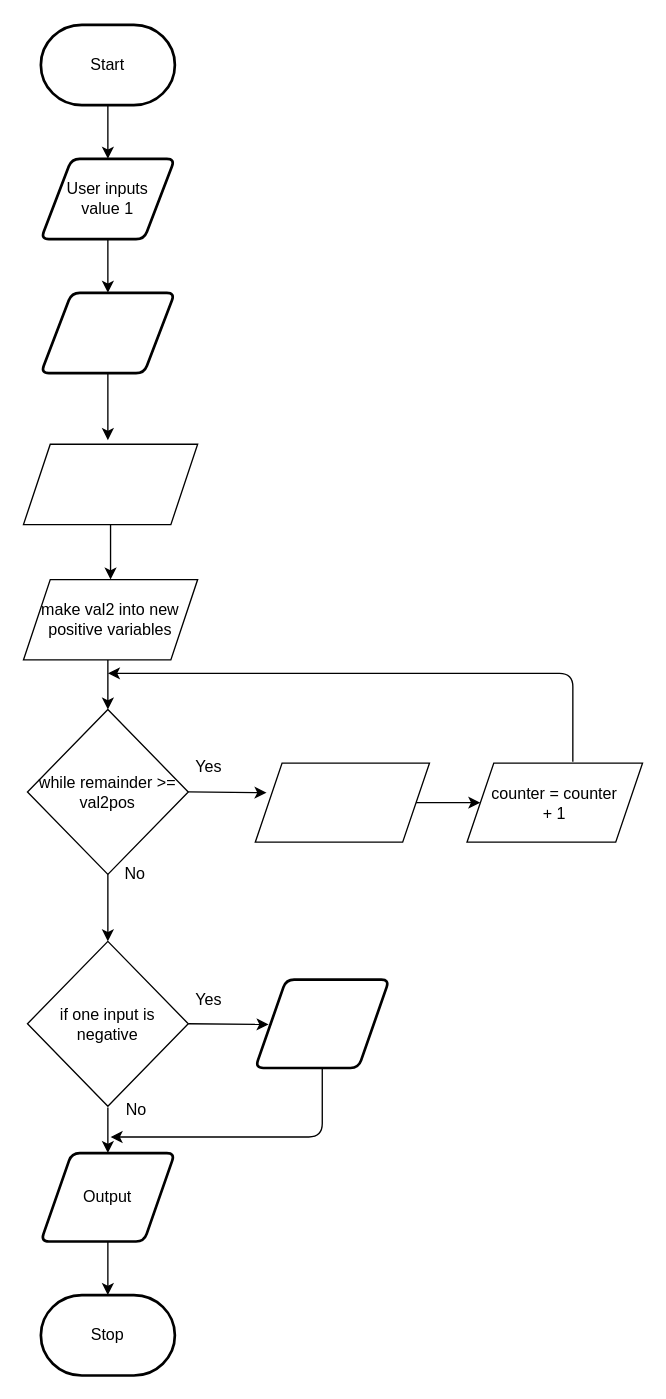
The diagram is 666 pixels wide and 1399 high, and some of its shapes have lost their labels. Here are the shapes that lost their labels. From the top down, the centre of each, then its label:
point (107, 332): User inputs value 2
point (110, 484): make val1 into new positive variables
point (341, 802): remainder = remainder - val2pos
point (321, 1023): Make result negative
